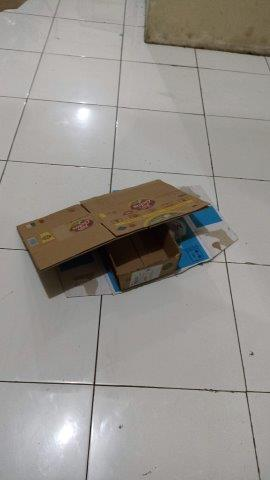kardus: (23, 182, 237, 289)
